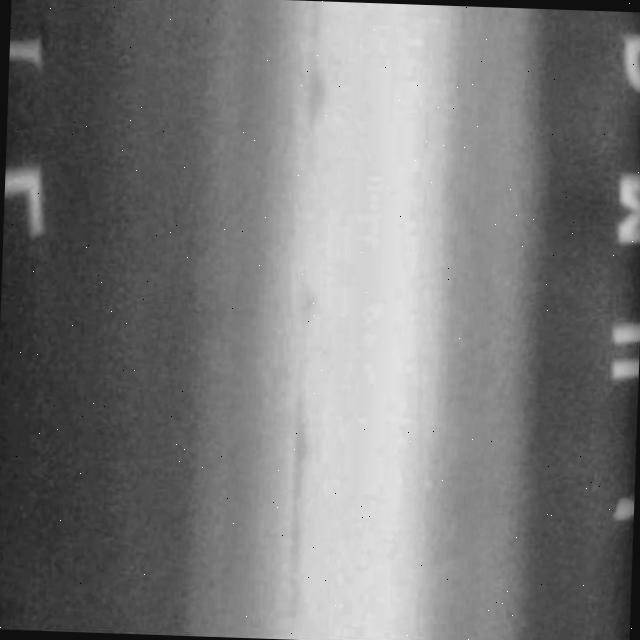LoP-LoF: (269, 0, 367, 627)
